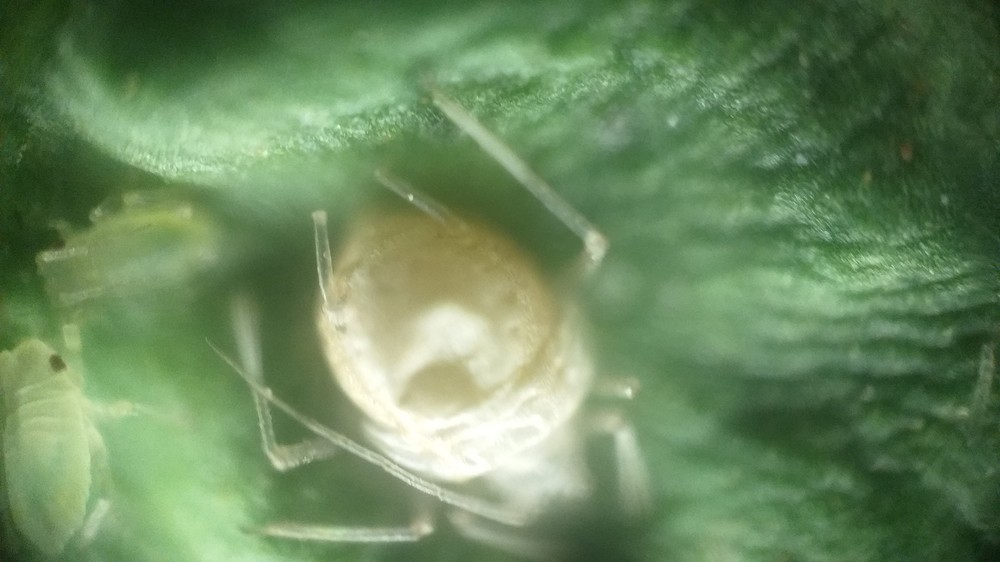Pulgon: (255, 135, 693, 556), (3, 326, 183, 557), (33, 182, 250, 317)
